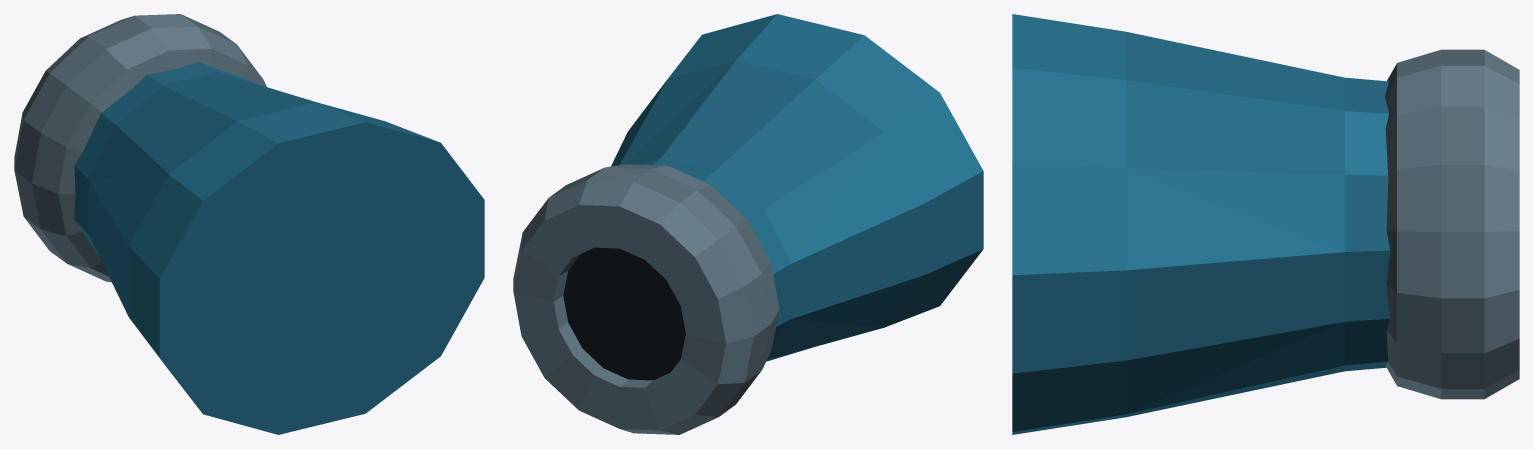
Rendered from EA_PusherTail.fbx.
3 renders of one model, left to right at view 1: azimuth 30°, elevation 25°; view 2: azimuth 150°, elevation 25°; view 3: azimuth 270°, elevation 25°, orthographic. The views are drawn at different scales.
Visible parts, largest first — view 1: EA_PusherTail; view 2: EA_PusherTail; view 3: EA_PusherTail.
Boxes of the visible parts, x1=… form: EA_PusherTail: x1=14, y1=14, x2=484, y2=434; EA_PusherTail: x1=513, y1=14, x2=983, y2=434; EA_PusherTail: x1=1012, y1=14, x2=1519, y2=434.
Bounding box in the file's own units: 0.5409 × 0.4636 × 0.58.
